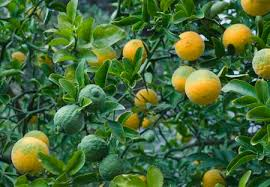orange: (11, 137, 50, 173), (185, 69, 221, 108), (171, 30, 206, 63), (52, 104, 86, 133), (78, 134, 109, 164), (171, 66, 201, 94), (123, 37, 149, 69), (135, 88, 161, 113)
